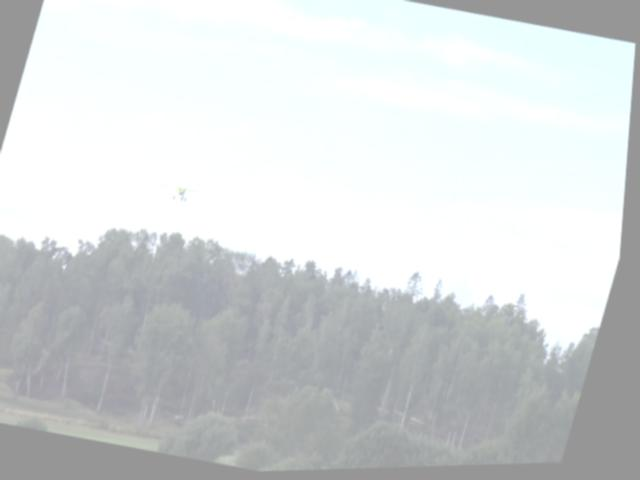plane: (160, 180, 209, 209)
